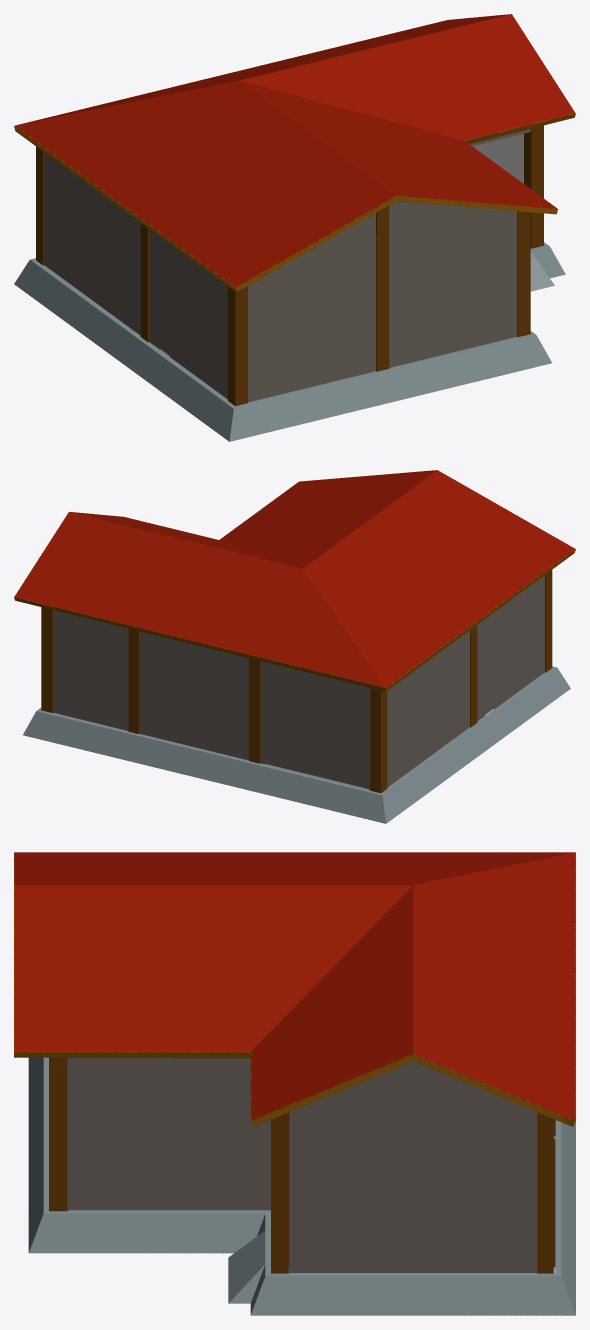
Rendered from house.obj.
3 views of the same model, one above another, from view 1: azimuth 30°, elevation 25°; view 2: azimuth 150°, elevation 25°; view 3: azimuth 270°, elevation 25° (orthographic). The views are drawn at different scales.
Visible parts, largest first — view 1: Cube.001_Cube; view 2: Cube.001_Cube; view 3: Cube.001_Cube.
Part boxes in pixels (x1,y1,x2,y2): Cube.001_Cube: [14, 14, 575, 441]; Cube.001_Cube: [14, 470, 575, 823]; Cube.001_Cube: [14, 852, 575, 1315].
Size of the model in its own units: 8.6 by 4 by 7.6.
